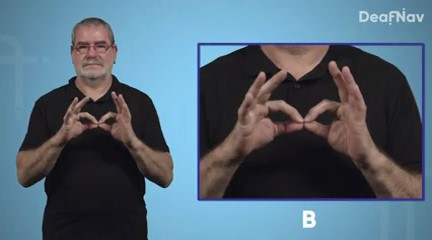B: (56, 88, 138, 147)
